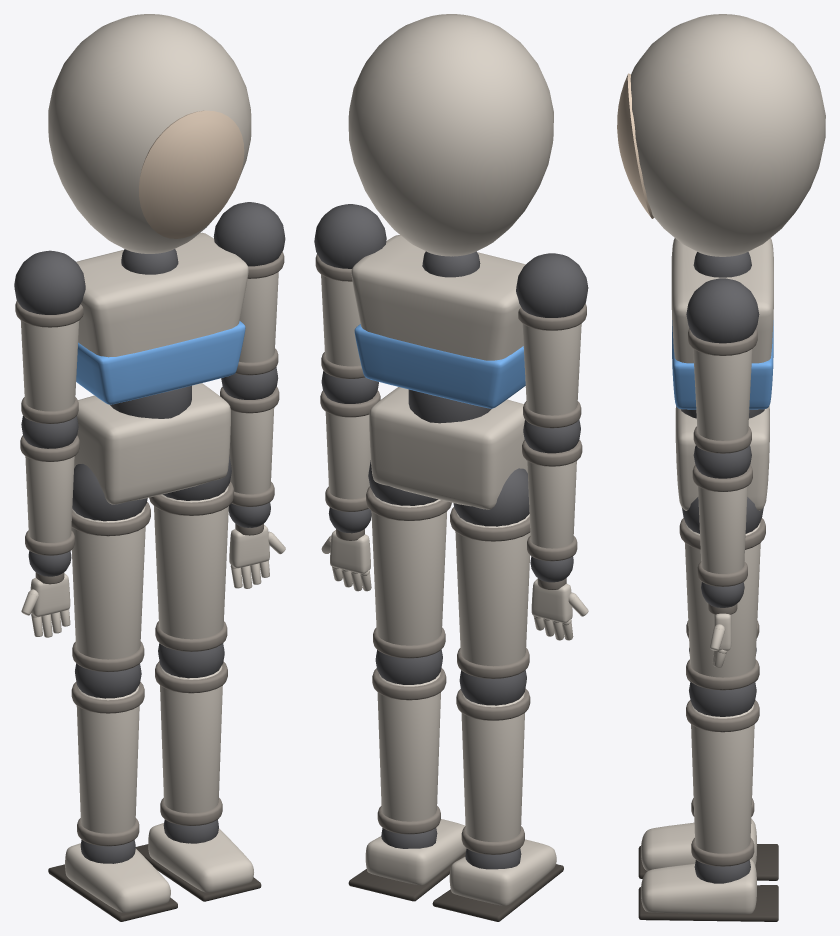
File: mannequin.glb
The picture shows the model from 3 angles, left to right: view 1: azimuth 30°, elevation 25°; view 2: azimuth 150°, elevation 25°; view 3: azimuth 270°, elevation 25°; orthographic projection.
Visible parts, largest first — view 1: Torso, Head, UpperLeg_R, UpperLeg_L, LowerLeg_R, LowerLeg_L, FacePlate, UpperArm_R, UpperArm_L, LowerArm_R, Foot_R, Foot_L (+3 smaller); view 2: Head, Torso, UpperLeg_R, UpperLeg_L, LowerLeg_L, LowerLeg_R, UpperArm_R, UpperArm_L, LowerArm_R, Foot_R, LowerArm_L, Foot_L (+2 smaller); view 3: Head, LowerLeg_L, Torso, UpperArm_L, UpperLeg_L, Foot_L, LowerArm_L, Foot_R, FacePlate, Hand_L.
Boxes of the visible parts, x1,y1,x2,y2 form: Torso: (74, 232, 248, 504); Head: (48, 14, 251, 274); UpperLeg_R: (71, 464, 150, 671); UpperLeg_L: (149, 456, 233, 651); LowerLeg_R: (71, 663, 144, 846); LowerLeg_L: (155, 643, 227, 825); FacePlate: (139, 110, 244, 238); UpperArm_R: (14, 250, 85, 423); UpperArm_L: (213, 202, 285, 375); LowerArm_R: (20, 415, 79, 555); Foot_R: (48, 840, 177, 921); Foot_L: (136, 819, 261, 901); Head: (348, 14, 553, 277); Torso: (351, 235, 527, 509); UpperLeg_R: (450, 468, 530, 678); UpperLeg_L: (366, 460, 451, 658); LowerLeg_L: (372, 649, 446, 834); LowerLeg_R: (456, 670, 530, 854); UpperArm_R: (516, 253, 588, 428); UpperArm_L: (314, 204, 386, 378); LowerArm_R: (522, 420, 582, 561); Foot_R: (432, 839, 563, 921); LowerArm_L: (320, 371, 380, 511); Foot_L: (348, 819, 466, 901); Head: (630, 14, 825, 277); LowerLeg_L: (686, 681, 759, 866); Torso: (671, 238, 773, 510); UpperArm_L: (686, 278, 759, 453); UpperLeg_L: (679, 497, 765, 690); Foot_L: (638, 859, 778, 921); LowerArm_L: (692, 445, 752, 586); Foot_R: (638, 819, 778, 880); FacePlate: (617, 73, 654, 218); Hand_L: (701, 582, 744, 667).
Bounding box in the file's own units: 0.6326 × 1.96 × 0.4297.
